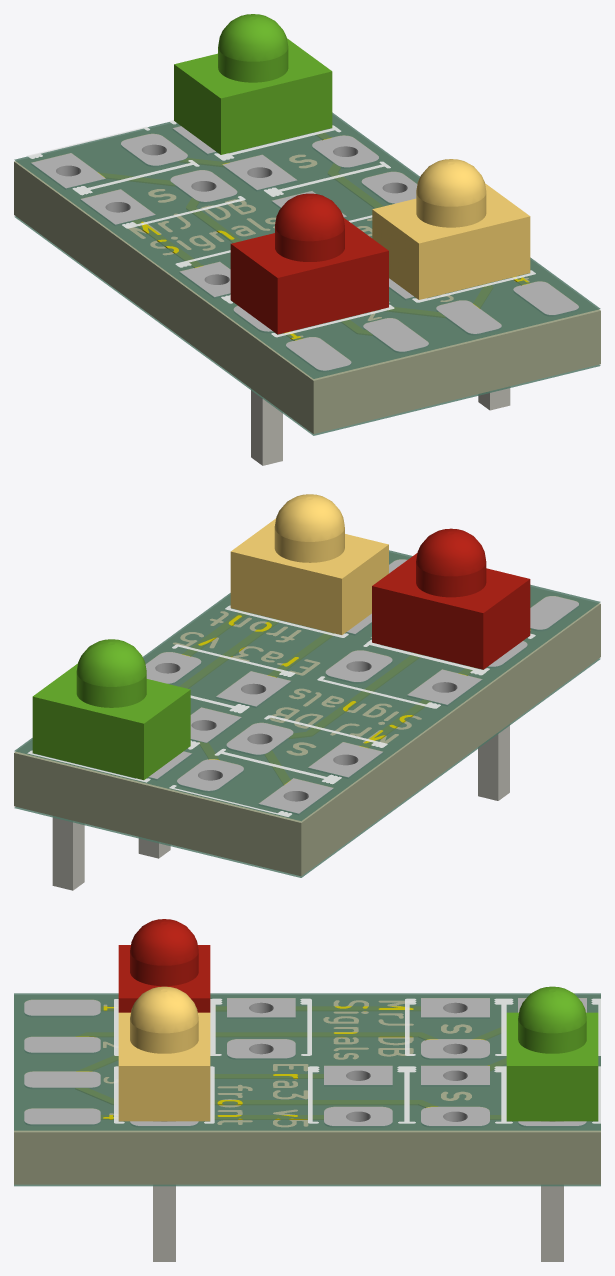
File: MrJ-DB-Era3-prod-entry-test-w4.glb
The picture shows the model from 3 angles, top to bottom: view 1: azimuth 30°, elevation 25°; view 2: azimuth 150°, elevation 25°; view 3: azimuth 270°, elevation 25°; orthographic projection. The views are drawn at different scales.
Parts seen in each view (by area): view 1: =>[0:1:1:13], =>[0:1:1:11], =>[0:1:1:5], =>[0:1:1:9], =>[0:1:1:3], =>[0:1:1:7], =>[0:1:1:10], =>[0:1:1:8], =>[0:1:1:12]; view 2: =>[0:1:1:13], =>[0:1:1:11], =>[0:1:1:7], =>[0:1:1:5], =>[0:1:1:3], =>[0:1:1:9], =>[0:1:1:8], =>[0:1:1:10], =>[0:1:1:12]; view 3: =>[0:1:1:13], =>[0:1:1:11], =>[0:1:1:9], =>[0:1:1:3], =>[0:1:1:7], =>[0:1:1:5], =>[0:1:1:8], =>[0:1:1:10], =>[0:1:1:12].
Part boxes in pixels (x1=…): =>[0:1:1:13]: x1=14, y1=115, x2=600, y2=433; =>[0:1:1:11]: x1=14, y1=112, x2=600, y2=378; =>[0:1:1:5]: x1=230, y1=193, x2=388, y2=465; =>[0:1:1:9]: x1=31, y1=126, x2=578, y2=371; =>[0:1:1:3]: x1=372, y1=159, x2=530, y2=410; =>[0:1:1:7]: x1=174, y1=14, x2=332, y2=154; =>[0:1:1:10]: x1=27, y1=120, x2=535, y2=337; =>[0:1:1:8]: x1=98, y1=133, x2=529, y2=340; =>[0:1:1:12]: x1=14, y1=216, x2=600, y2=435; =>[0:1:1:13]: x1=14, y1=552, x2=600, y2=876; =>[0:1:1:11]: x1=14, y1=550, x2=600, y2=821; =>[0:1:1:7]: x1=32, y1=639, x2=190, y2=890; =>[0:1:1:5]: x1=372, y1=528, x2=530, y2=800; =>[0:1:1:3]: x1=230, y1=494, x2=388, y2=634; =>[0:1:1:9]: x1=145, y1=559, x2=578, y2=814; =>[0:1:1:8]: x1=180, y1=613, x2=530, y2=784; =>[0:1:1:10]: x1=27, y1=605, x2=535, y2=816; =>[0:1:1:12]: x1=14, y1=658, x2=600, y2=877; =>[0:1:1:13]: x1=14, y1=995, x2=600, y2=1184; =>[0:1:1:11]: x1=14, y1=993, x2=600, y2=1130; =>[0:1:1:9]: x1=24, y1=998, x2=586, y2=1126; =>[0:1:1:3]: x1=118, y1=986, x2=210, y2=1261; =>[0:1:1:7]: x1=506, y1=986, x2=598, y2=1261; =>[0:1:1:5]: x1=118, y1=919, x2=210, y2=1012; =>[0:1:1:8]: x1=75, y1=1006, x2=505, y2=1119; =>[0:1:1:10]: x1=114, y1=998, x2=600, y2=1123; =>[0:1:1:12]: x1=14, y1=1184, x2=600, y2=1186.
Size of the model in its own units: 0.00851 by 0.0071 by 0.0154.
